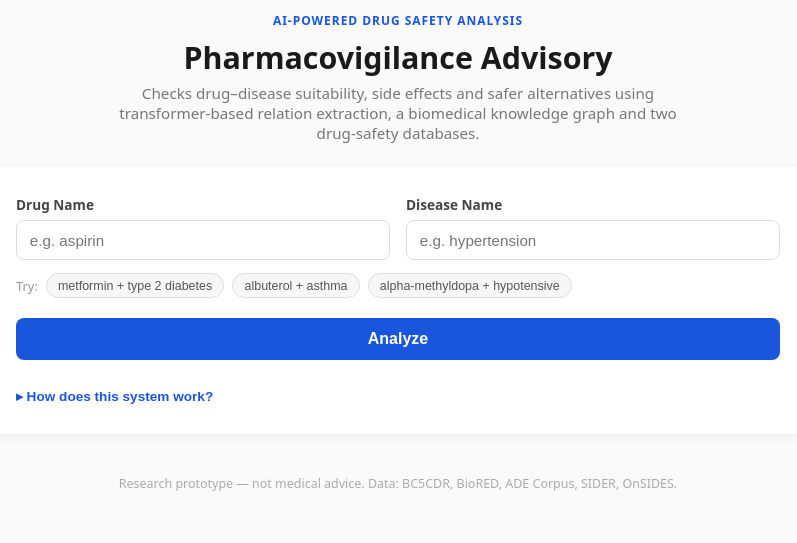
Scenario: shows a clear message when the API is unreachable
Step 1. Click the button "metformin + type 2 diabetes" → click(135, 286), box [46,273,224,298]
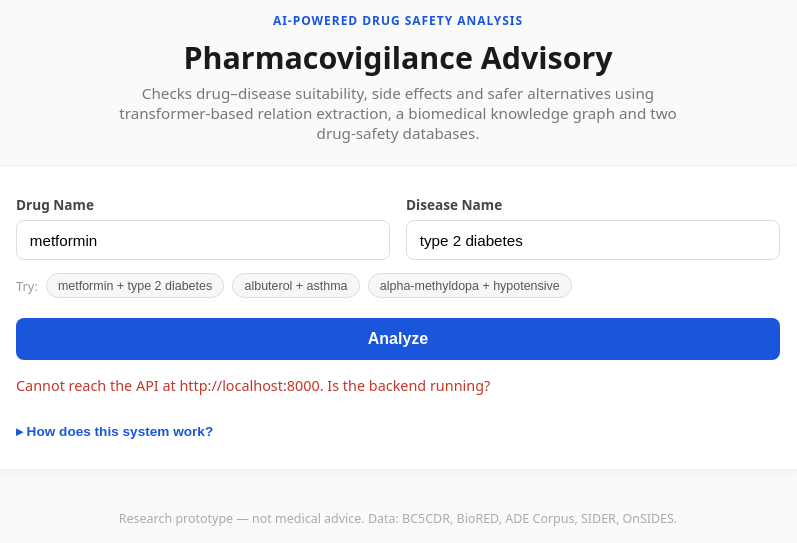
Now the message shows "Cannot reach the API", box [16,376,490,395]
